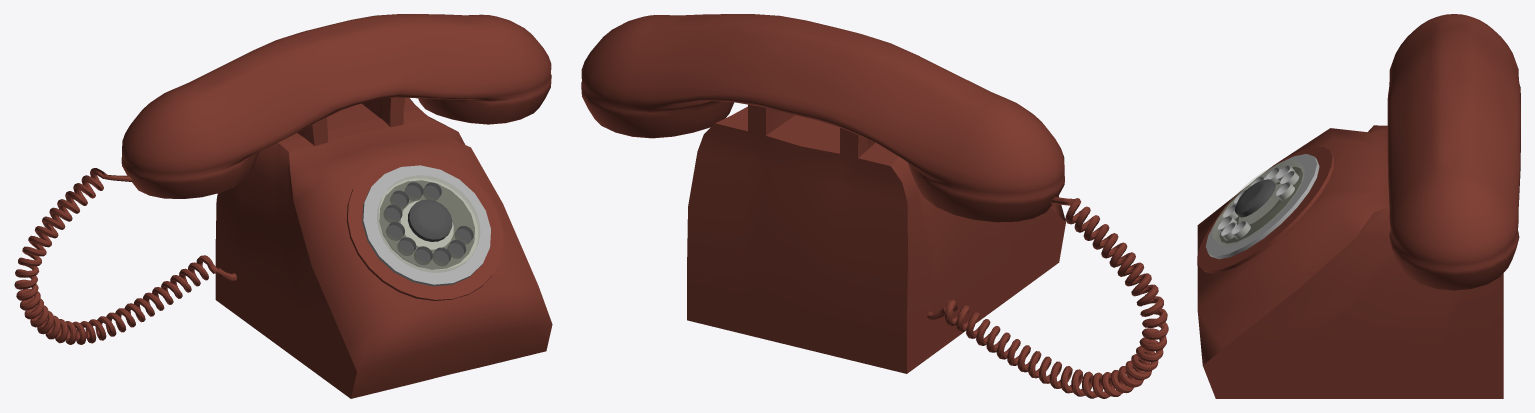
The model's file is pickup.fbx.
3 renders of one model, left to right at view 1: azimuth 30°, elevation 25°; view 2: azimuth 150°, elevation 25°; view 3: azimuth 270°, elevation 25°, orthographic. The views are drawn at different scales.
Parts seen in each view (by area): view 1: phonebody, reciever, numbers, cord_up, Base, holes, center; view 2: phonebody, reciever, cord_up; view 3: phonebody, reciever, numbers, holes, Base, center.
Boxes of the visible parts, x1,y1,x2,y2 form: phonebody: [215, 97, 552, 398]; reciever: [121, 14, 551, 198]; numbers: [362, 165, 490, 286]; cord_up: [14, 168, 236, 344]; Base: [346, 155, 503, 300]; holes: [377, 175, 479, 272]; center: [407, 199, 452, 241]; phonebody: [687, 104, 1065, 373]; reciever: [581, 14, 1064, 222]; cord_up: [927, 197, 1168, 398]; phonebody: [1197, 125, 1503, 398]; reciever: [1387, 14, 1520, 290]; numbers: [1205, 154, 1319, 259]; holes: [1212, 160, 1304, 245]; Base: [1197, 147, 1334, 273]; center: [1234, 179, 1275, 217].
Size of the model in its own units: 12.74 by 6.14 by 6.43.
